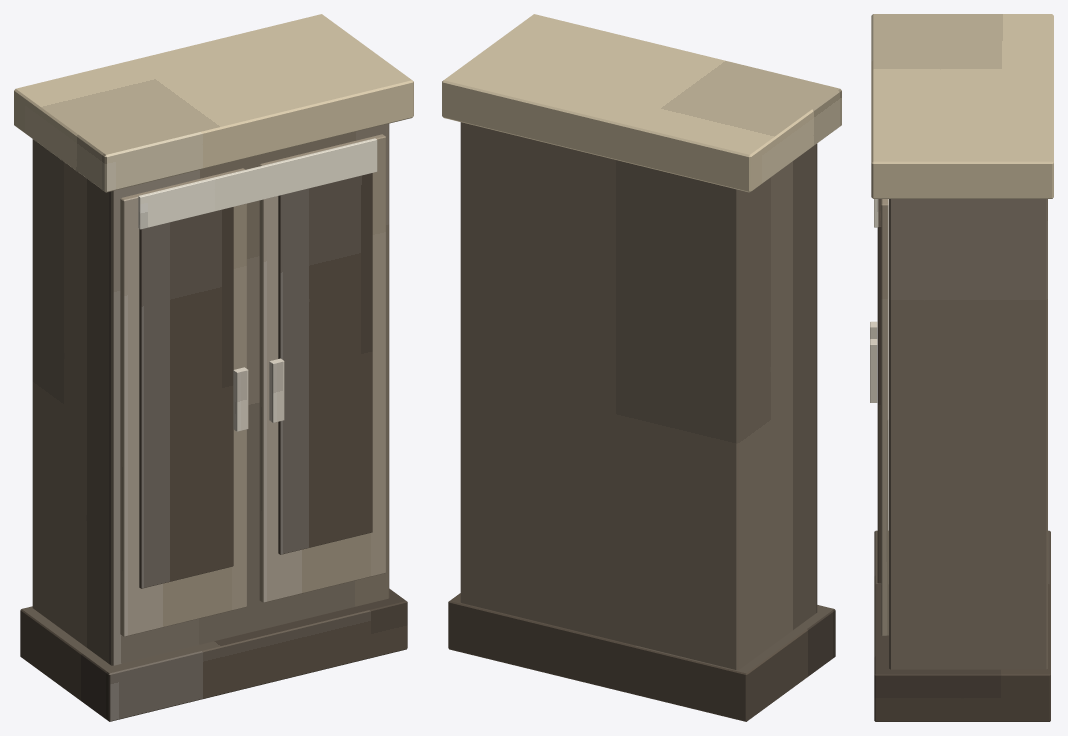
Rendered from bedroom_wardrobe_ivory.glb.
3 renders of one model, left to right at view 1: azimuth 30°, elevation 25°; view 2: azimuth 150°, elevation 25°; view 3: azimuth 270°, elevation 25°, orthographic.
Visible parts, largest first — view 1: WardrobeBody, WardrobeCrown, WardrobeInset_1, WardrobeInset_2, WardrobePlinth, WardrobeDoor_1, WardrobeDoor_2, WardrobeCarvedBand, WardrobeHandle_1, WardrobeHandle_2; view 2: WardrobeBody, WardrobeCrown, WardrobePlinth; view 3: WardrobeBody, WardrobeCrown, WardrobePlinth, WardrobeDoor_2, WardrobeInset_2, WardrobeHandle_2.
Boxes of the visible parts, left/top/right/bottom form: WardrobeBody: left=32, top=123, right=389, bottom=665; WardrobeCrown: left=14, top=14, right=413, bottom=192; WardrobeInset_1: left=139, top=207, right=233, bottom=588; WardrobeInset_2: left=278, top=173, right=372, bottom=554; WardrobePlinth: left=20, top=588, right=407, bottom=721; WardrobeDoor_1: left=120, top=168, right=246, bottom=636; WardrobeDoor_2: left=259, top=134, right=385, bottom=602; WardrobeCarvedBand: left=138, top=138, right=377, bottom=229; WardrobeHandle_1: left=233, top=367, right=248, bottom=431; WardrobeHandle_2: left=269, top=358, right=284, bottom=422; WardrobeBody: left=460, top=122, right=817, bottom=669; WardrobeCrown: left=442, top=14, right=841, bottom=192; WardrobePlinth: left=448, top=593, right=835, bottom=721; WardrobeBody: left=889, top=199, right=1047, bottom=669; WardrobeCrown: left=871, top=14, right=1053, bottom=198; WardrobePlinth: left=874, top=530, right=1050, bottom=721; WardrobeDoor_2: left=881, top=199, right=888, bottom=635; WardrobeInset_2: left=877, top=199, right=881, bottom=583; WardrobeHandle_2: left=870, top=339, right=877, bottom=402.
Size of the model in its own units: 1.2 by 2.11 by 0.6245.
1 material, 1 textured.
